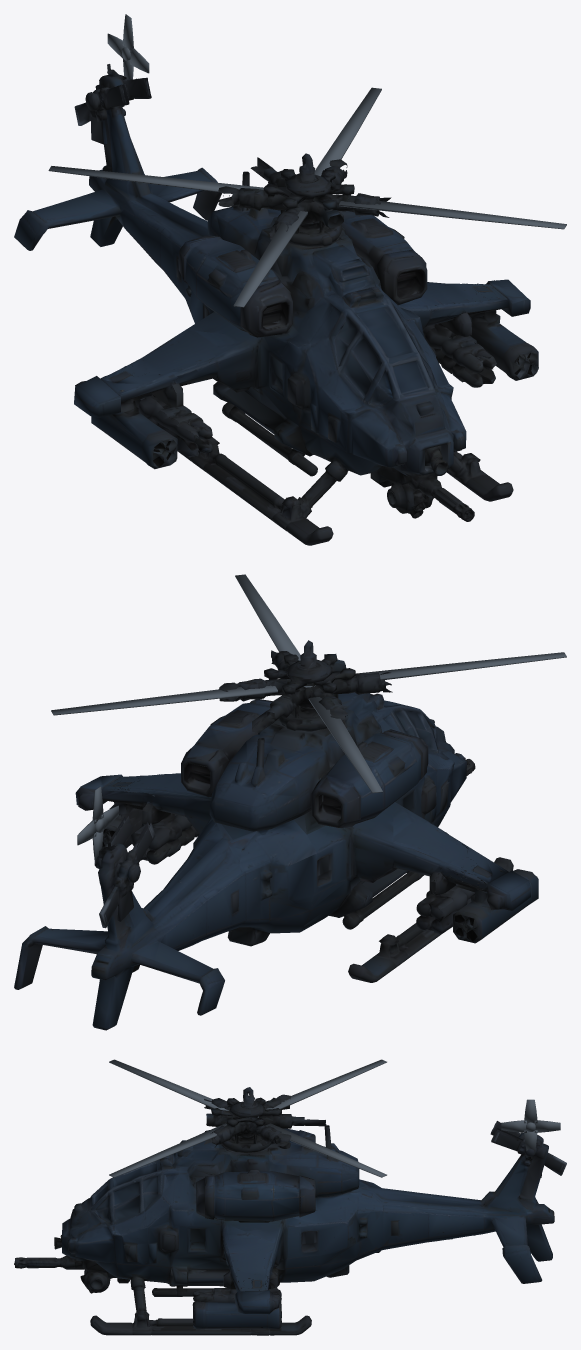
File: blue-h8-lod1.fbx
The picture shows the model from 3 angles, top to bottom: view 1: azimuth 30°, elevation 25°; view 2: azimuth 150°, elevation 25°; view 3: azimuth 270°, elevation 25°; orthographic projection. The views are drawn at different scales.
Visible parts, largest first — view 1: Body, PortWeaponPod, RotorHub, RotorBlades, StarboardWeaponPod, TailRotorBlades; view 2: Body, RotorBlades, RotorHub, PortWeaponPod, StarboardWeaponPod, TailRotorBlades; view 3: Body, StarboardWeaponPod, RotorHub, RotorBlades, TailRotorBlades, ChinGun.
Boxes of the visible parts, x1,y1,x2,y2 form: Body: [14, 64, 513, 545]; PortWeaponPod: [74, 359, 211, 469]; RotorHub: [218, 153, 391, 239]; RotorBlades: [48, 87, 566, 307]; StarboardWeaponPod: [429, 279, 538, 383]; TailRotorBlades: [107, 14, 149, 79]; Body: [14, 692, 513, 1030]; RotorBlades: [51, 574, 566, 793]; RotorHub: [219, 640, 392, 732]; PortWeaponPod: [421, 825, 538, 943]; StarboardWeaponPod: [75, 774, 166, 858]; TailRotorBlades: [77, 786, 118, 863]; Body: [15, 1121, 566, 1335]; StarboardWeaponPod: [193, 1250, 281, 1329]; RotorHub: [204, 1087, 326, 1148]; RotorBlades: [109, 1059, 386, 1177]; TailRotorBlades: [501, 1099, 560, 1152]; ChinGun: [14, 1258, 60, 1268].
Bounding box in the file's own units: 1276 × 818 × 1921.
